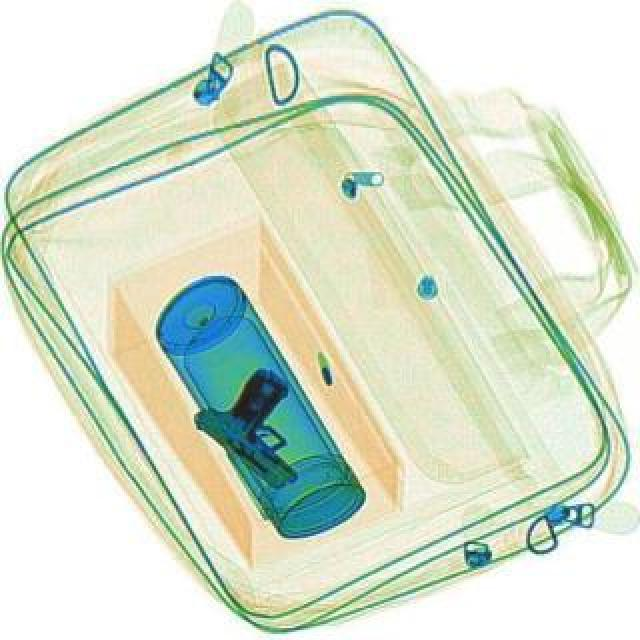gun: (192, 354, 348, 494)
